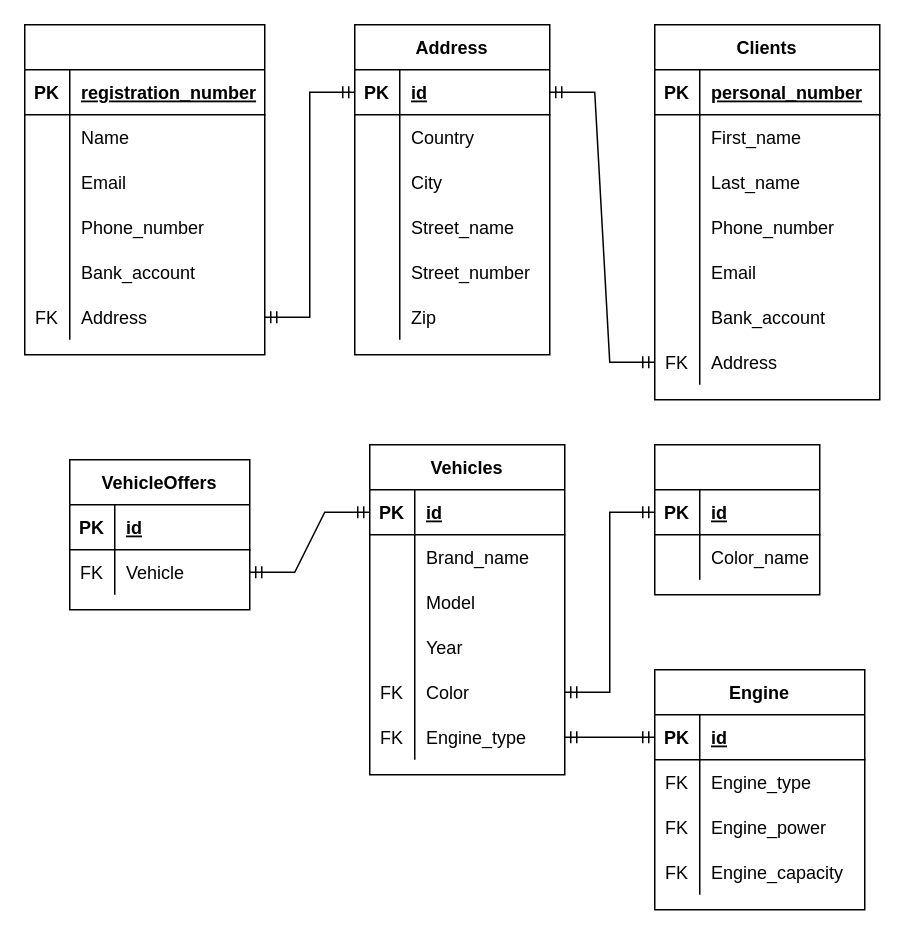
Image size: 905x935. Some labels were removed from this diagram. Each missing label, with the box of its shape:
Colors: (653, 443, 820, 595)
SellerCompany: (23, 23, 265, 355)
